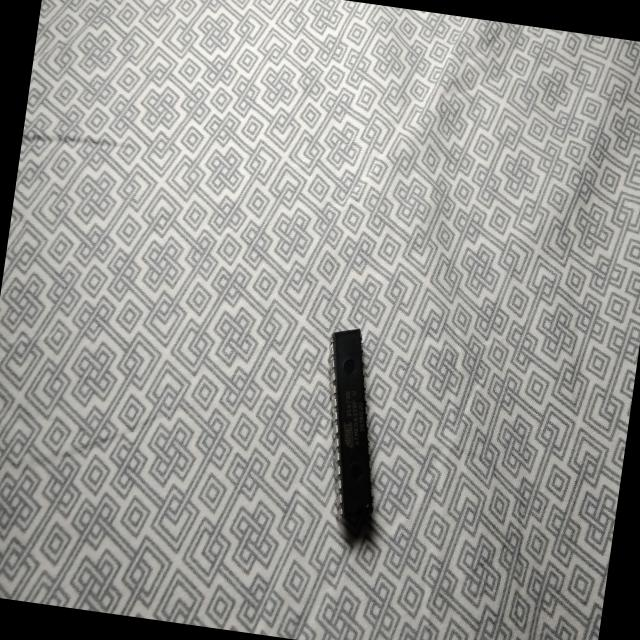atmega: (300, 322, 401, 543)
